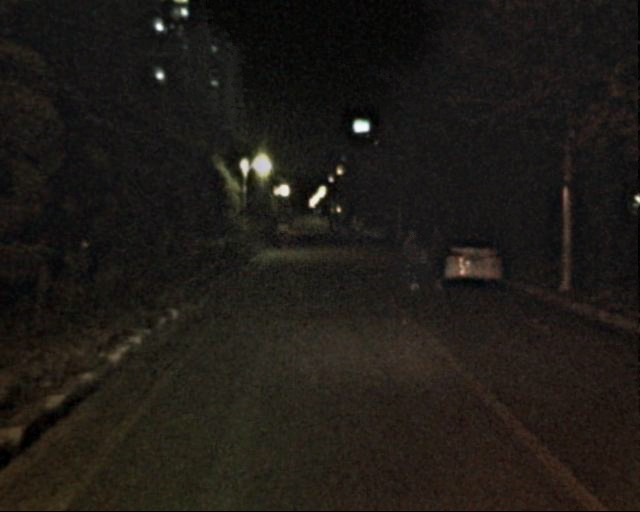person: (423, 221, 452, 292), (400, 230, 427, 297), (323, 218, 349, 243), (275, 216, 289, 250)
